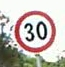limite 30: (11, 9, 55, 53)
